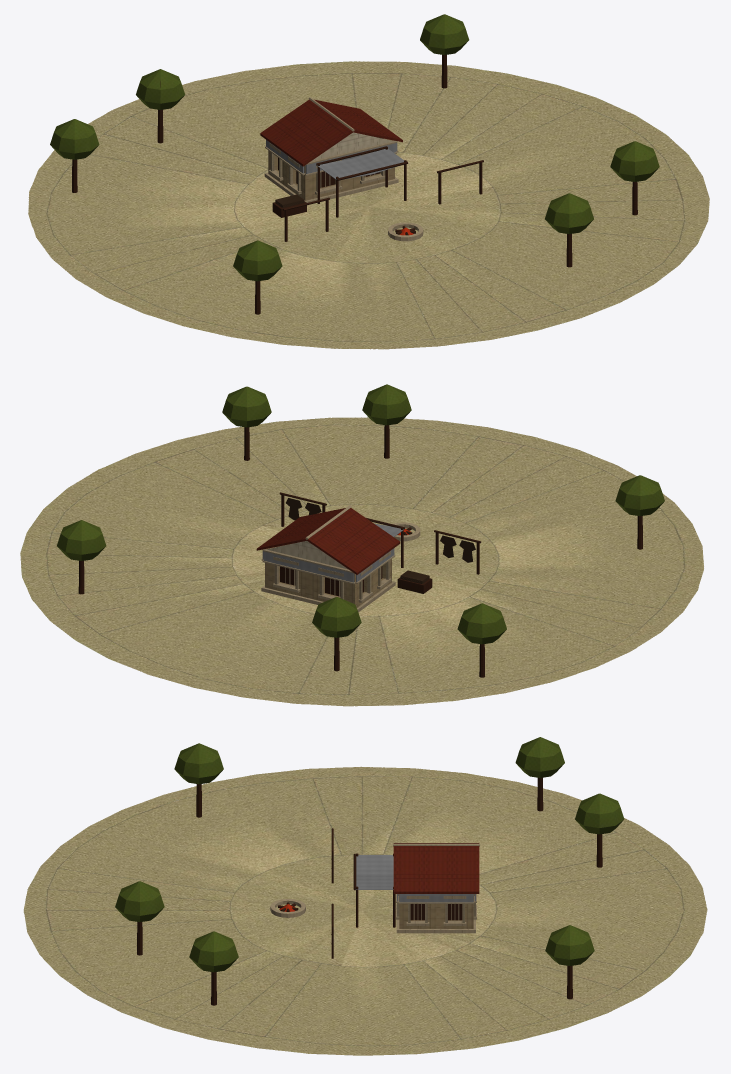
The model's file is camp-bronze.glb.
3 views of the same model, one above another, from view 1: azimuth 30°, elevation 25°; view 2: azimuth 150°, elevation 25°; view 3: azimuth 270°, elevation 25° (orthographic).
Visible parts, largest first — view 1: LOD0; view 2: LOD0; view 3: LOD0.
Part boxes in pixels (bbox=[...]): LOD0: bbox=[28, 14, 709, 349]; LOD0: bbox=[20, 384, 703, 706]; LOD0: bbox=[23, 737, 707, 1055].
Size of what is drawn, in the model's own units: 4.74 by 0.5401 by 4.74.
3 materials, 3 textured.
